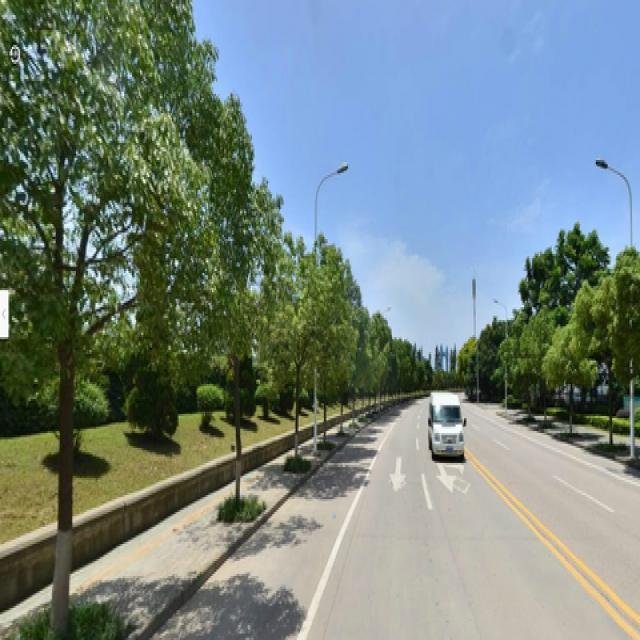cinn: (16, 15, 164, 589), (202, 138, 266, 488), (276, 222, 316, 463)
